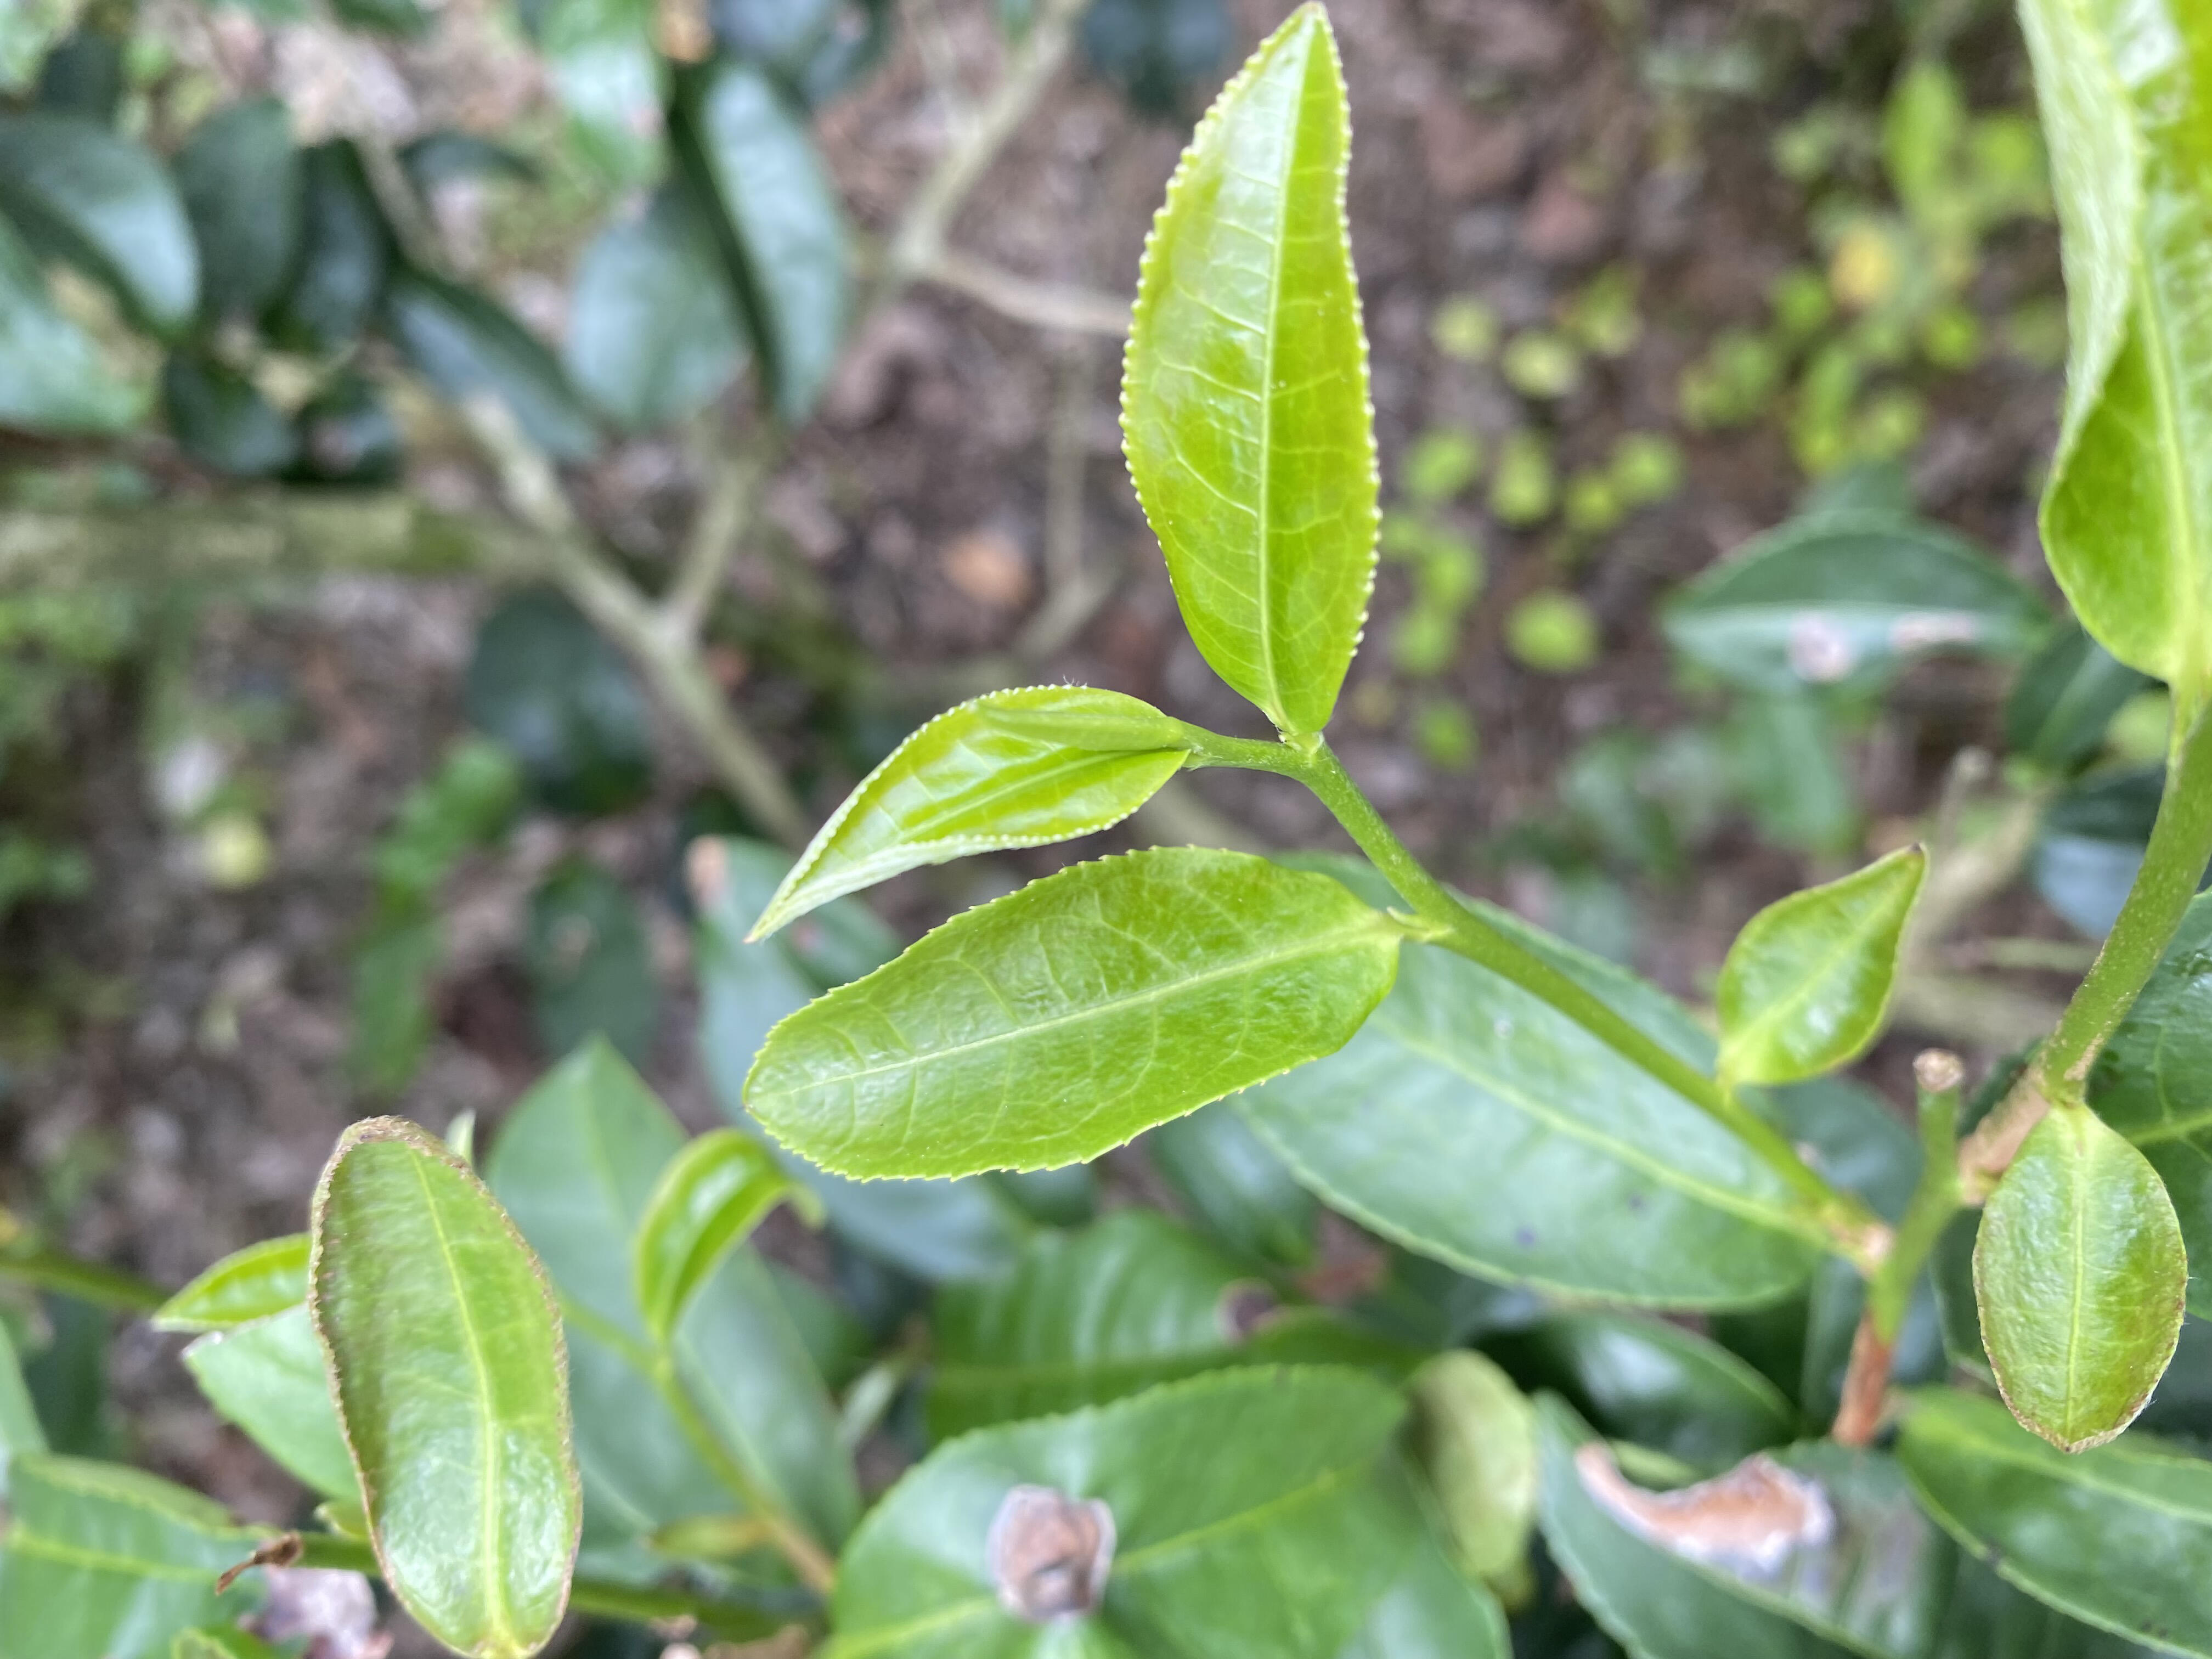healthy: (742, 842, 1402, 1187), (1118, 3, 1388, 734), (740, 681, 1188, 943)
tanju_high: (812, 1361, 1512, 1656), (1533, 1387, 1993, 1656)
tanju_low: (303, 1112, 589, 1659), (1968, 1107, 2191, 1455)
